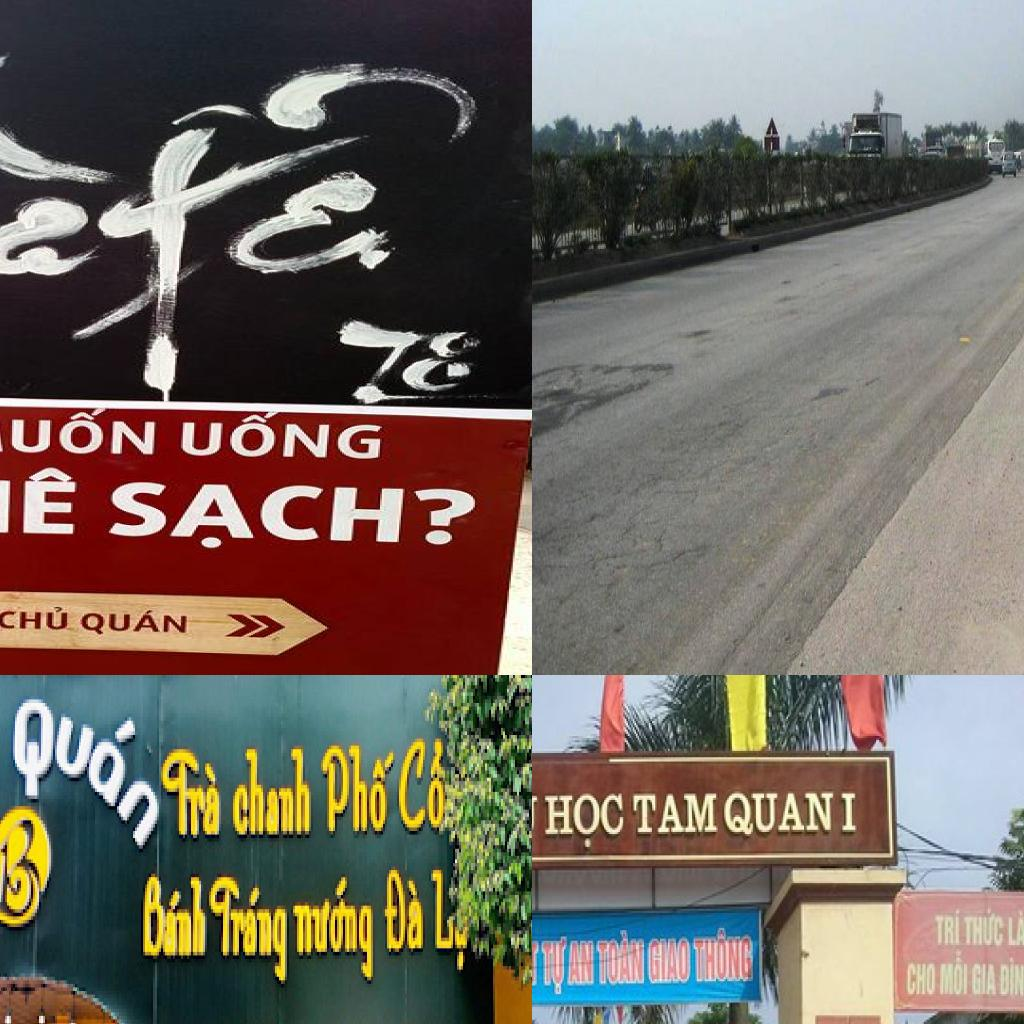text: (0, 39, 531, 412), (90, 479, 478, 551), (15, 678, 167, 860), (321, 317, 500, 407), (177, 409, 399, 464), (205, 870, 291, 991), (291, 874, 375, 991), (227, 742, 315, 842), (0, 405, 159, 458), (321, 738, 399, 842), (161, 742, 225, 849), (139, 866, 209, 962), (0, 463, 91, 534), (722, 785, 838, 840), (397, 732, 453, 838), (543, 787, 630, 853), (381, 863, 427, 963), (631, 787, 721, 838), (79, 605, 196, 639), (692, 928, 758, 983), (598, 930, 647, 988), (647, 934, 694, 988), (431, 863, 457, 959), (0, 605, 74, 634), (966, 906, 1007, 952), (542, 934, 570, 998), (566, 936, 596, 990), (940, 950, 970, 1000), (906, 960, 938, 1003), (934, 907, 964, 949), (838, 787, 862, 838), (999, 953, 1024, 1000), (972, 960, 999, 1000), (1007, 908, 1024, 951)
